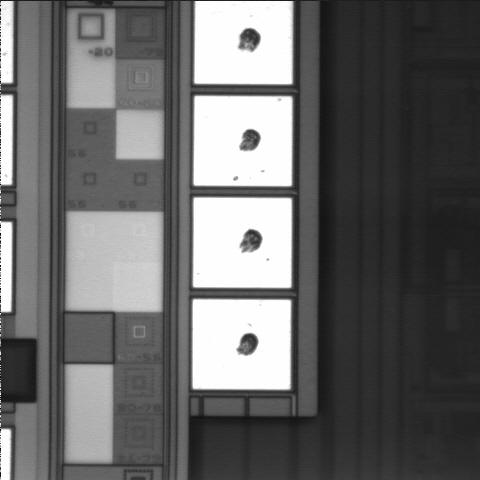pad: (193, 197, 292, 288), (192, 299, 291, 390), (193, 96, 293, 186)
